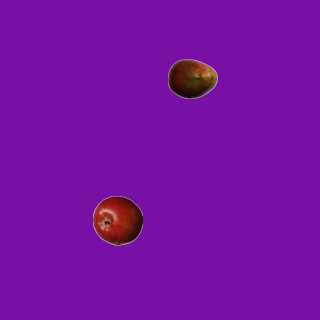Apple Braeburn: (92, 195, 142, 245)
Mango Red: (167, 53, 217, 103)
